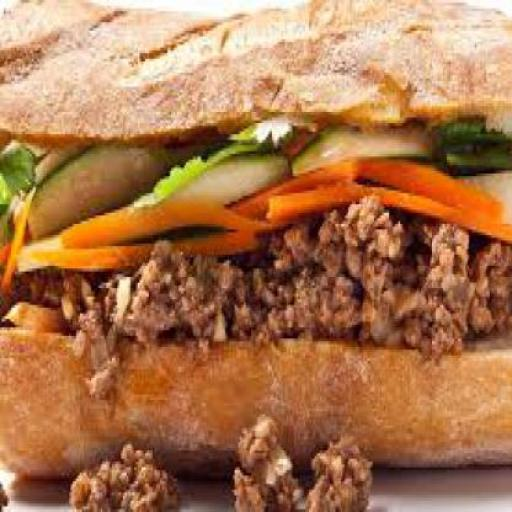biodegradable: (0, 0, 511, 471), (230, 213, 510, 358), (10, 148, 288, 260), (76, 234, 240, 394), (229, 154, 505, 218), (17, 151, 168, 232), (267, 185, 510, 235), (294, 121, 447, 176), (66, 436, 178, 509), (56, 198, 259, 230), (24, 234, 260, 260), (231, 420, 296, 510), (304, 425, 372, 509), (443, 117, 511, 173), (0, 190, 32, 289), (154, 156, 215, 194), (0, 140, 38, 194), (227, 112, 299, 140), (6, 299, 64, 325), (0, 479, 4, 501)
